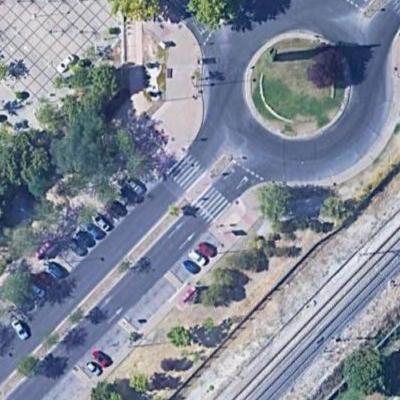tree: (3, 128, 49, 185), (341, 347, 391, 397), (185, 1, 250, 33), (58, 139, 102, 182), (2, 268, 40, 312), (258, 178, 299, 218), (86, 65, 121, 107), (107, 129, 142, 171), (89, 374, 123, 400), (202, 283, 233, 310), (117, 1, 158, 20), (168, 323, 196, 349), (130, 372, 153, 397)
